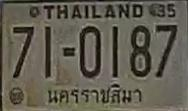0: (80, 26, 101, 78)
1: (44, 26, 51, 77), (112, 26, 118, 77)
7: (155, 24, 177, 77), (12, 26, 33, 78)
8: (130, 25, 152, 77)
NMA: (46, 82, 145, 108)
